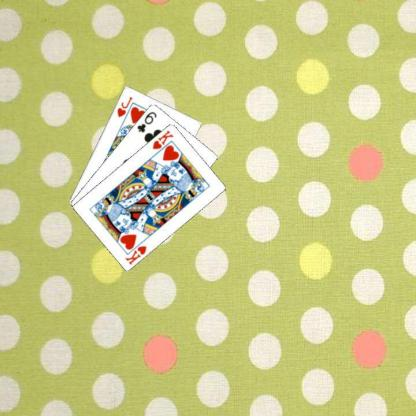6C: (134, 108, 158, 134)
JH: (115, 94, 134, 119)
KH: (122, 243, 148, 266), (150, 127, 174, 150)
